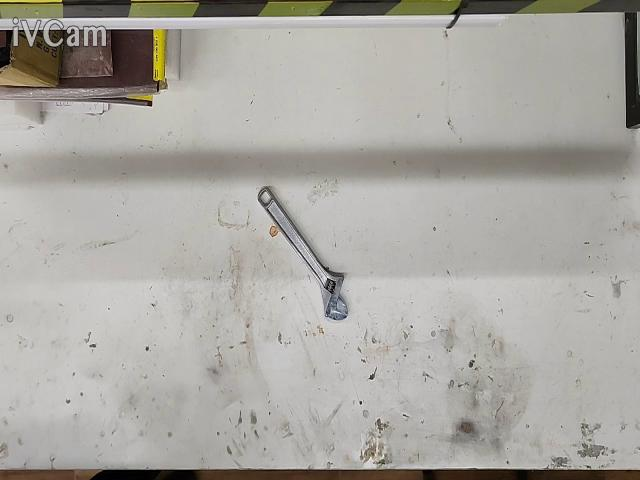Adjustable spanner: (258, 187, 349, 322)
